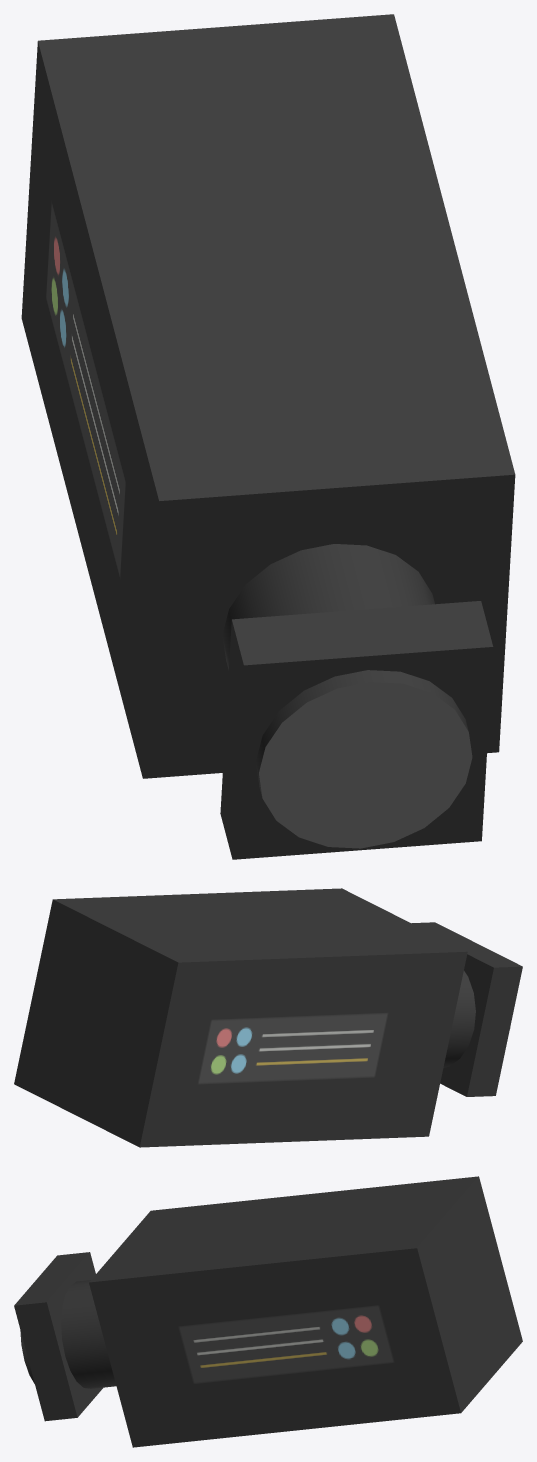
The model's file is imaxCamera.gltf.
The picture shows the model from 3 angles, top to bottom: view 1: azimuth 30°, elevation 25°; view 2: azimuth 150°, elevation 25°; view 3: azimuth 270°, elevation 25°; orthographic projection. The views are drawn at different scales.
Parts seen in each view (by area): view 1: camera_main, camera-lense, camera_lenseFrame.001; view 2: camera_main, camera_lenseFrame.001, camera-lense; view 3: camera_main, camera_lenseFrame.001, camera-lense.
Part boxes in pixels (left/top/right/bottom): camera_main: left=21, top=14, right=515, bottom=778; camera-lense: left=222, top=544, right=472, bottom=848; camera_lenseFrame.001: left=220, top=601, right=493, bottom=859; camera_main: left=14, top=888, right=467, bottom=1147; camera_lenseFrame.001: left=411, top=922, right=522, bottom=1096; camera-lense: left=443, top=971, right=510, bottom=1067; camera_main: left=89, top=1176, right=522, bottom=1447; camera_lenseFrame.001: left=14, top=1252, right=102, bottom=1421; camera-lense: left=20, top=1280, right=116, bottom=1388.
Size of the model in its own units: 0.8583 by 0.7418 by 1.41.
3 materials, 3 textured.
